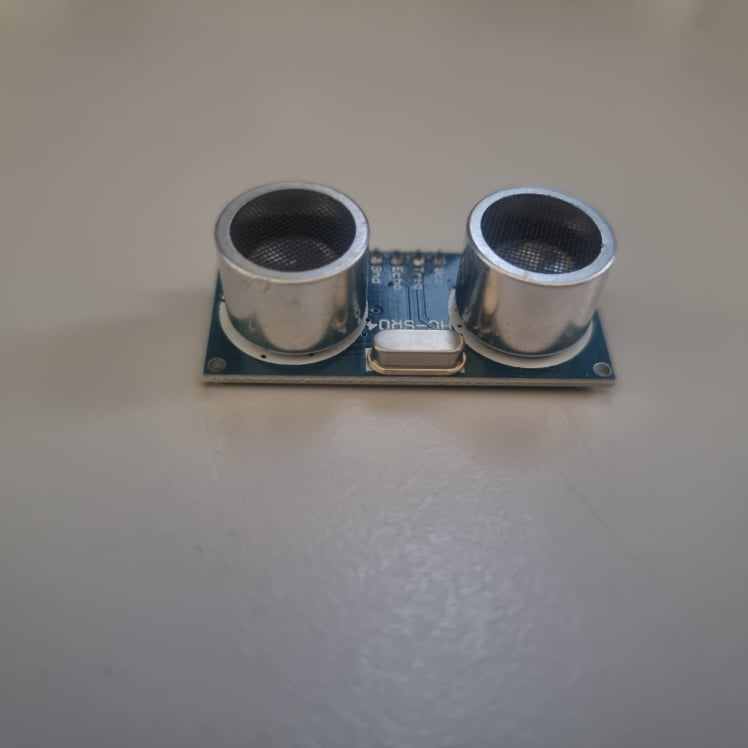SENSOR: (200, 179, 621, 387)
